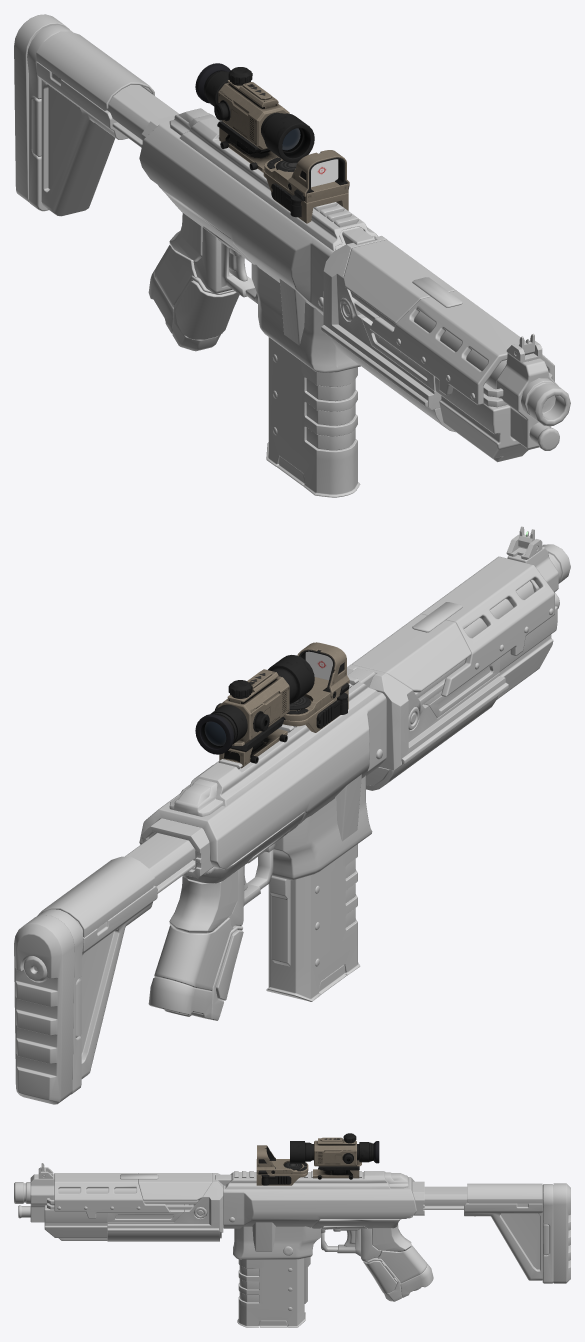
File: AssaultRifle.fbx
The picture shows the model from 3 angles, top to bottom: view 1: azimuth 30°, elevation 25°; view 2: azimuth 150°, elevation 25°; view 3: azimuth 270°, elevation 25°; orthographic projection. The views are drawn at different scales.
Visible parts, largest first — view 1: AssaultRifle, Stock, Magazine, RedDotSight, HolographicSight; view 2: AssaultRifle, Stock, Magazine, RedDotSight, HolographicSight; view 3: AssaultRifle, Stock, Magazine, RedDotSight, HolographicSight.
Part boxes in pixels (x1,y1,x2,y2): AssaultRifle: (139,108,570,462); Stock: (14,14,178,216); Magazine: (266,337,360,497); RedDotSight: (195,63,314,172); HolographicSight: (263,150,349,223); AssaultRifle: (139,526,570,1020); Stock: (14,833,195,1104); Magazine: (266,844,359,1001); RedDotSight: (195,655,314,768); HolographicSight: (281,642,349,732); AssaultRifle: (14,1163,433,1301); Stock: (423,1183,570,1283); Magazine: (237,1257,310,1327); RedDotSight: (290,1133,379,1179); HolographicSight: (256,1145,308,1185).
Bounding box in the file's own units: 0.078 × 0.3107 × 0.8392.
